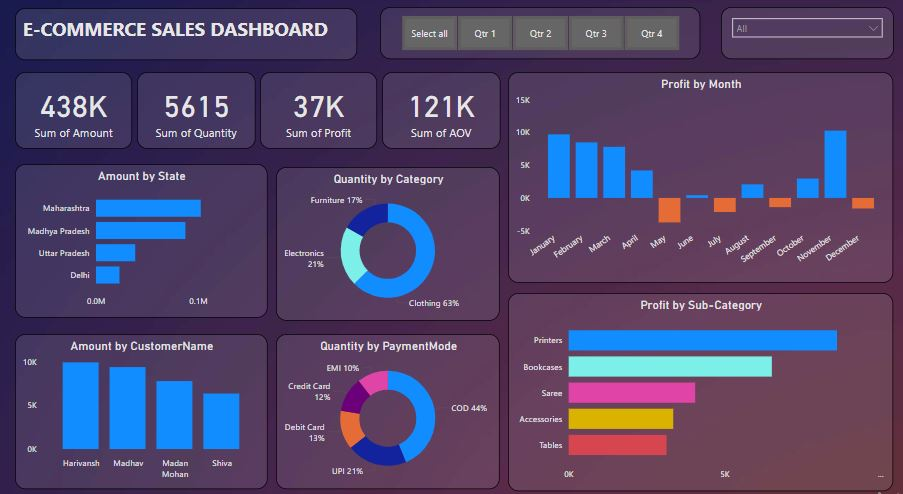

The dashboard page shown, as its layout file describes it:
{"tool":"powerbi","page":{"name":"Page 1","canvas":[1280,720],"ordinal":0},"visuals":[{"type":"textbox","box":[21.8,15.1,485.5,73.9],"z":0},{"type":"columnChart","title":"Profit by Month","fields":{"Category":["Orders.Order Date.Variation.Date Hierarchy.Month"],"Y":["Details.Profit"]},"box":[720.6,105.8,545.9,299],"z":1000},{"type":"barChart","title":" Profit by Sub-Category","fields":{"Category":["Details.Sub-Category"],"Y":["Details.Profit"]},"box":[720.6,419.9,545.9,280.5],"z":2000},{"type":"donutChart","title":" Quantity by Category","fields":{"Category":["Details.Category"],"Y":["Details.Quantity"]},"box":[391.4,240.7,317.5,218.4],"z":3000},{"type":"donutChart","title":"Quantity by PaymentMode","fields":{"Category":["Details.PaymentMode"],"Y":["Details.Quantity"]},"box":[391.4,477.6,317.5,220.1],"z":4000},{"type":"card","fields":{"Values":["Details.Amount"]},"box":[21.8,105.7,166.3,109.2],"z":5000},{"type":"card","fields":{"Values":["Details.Quantity"]},"box":[194.9,105.7,168,109.2],"z":6000},{"type":"card","fields":{"Values":["Details.Profit"]},"box":[367.9,105.7,166.3,109.2],"z":7000},{"type":"card","fields":{"Values":["Details.AOV"]},"box":[540.9,105.7,168,109.2],"z":8000},{"type":"barChart","title":"Amount by State","fields":{"Category":["Orders.State"],"Y":["Details.Amount"]},"box":[21.8,237.4,357.8,218.4],"z":9000},{"type":"clusteredColumnChart","title":"Amount by CustomerName","fields":{"Category":["Orders.CustomerName"],"Y":["Details.Amount"]},"box":[21.8,477.6,357.8,220.1],"z":10000},{"type":"slicer","fields":{"Values":["Orders.Order Date.Variation.Date Hierarchy.Quarter"]},"box":[539.2,14.6,453.5,73.9],"z":11000},{"type":"slicer","fields":{"Values":["Orders.State"]},"box":[1021.3,14.6,245.2,73.9],"z":12000}]}

Visuals, with their boxes in screenshot pixels (x1, y1, x2, y2), scaled from the page's 1280x720 canvas onto the 903x494 screenshot:
textbox: {"x1": 15, "y1": 10, "x2": 358, "y2": 61}
"Profit by Month" columnChart: {"x1": 508, "y1": 73, "x2": 893, "y2": 278}
" Profit by Sub-Category" barChart: {"x1": 508, "y1": 288, "x2": 893, "y2": 481}
" Quantity by Category" donutChart: {"x1": 276, "y1": 165, "x2": 500, "y2": 315}
"Quantity by PaymentMode" donutChart: {"x1": 276, "y1": 328, "x2": 500, "y2": 479}
card - Details.Amount: {"x1": 15, "y1": 73, "x2": 133, "y2": 147}
card - Details.Quantity: {"x1": 137, "y1": 73, "x2": 256, "y2": 147}
card - Details.Profit: {"x1": 260, "y1": 73, "x2": 377, "y2": 147}
card - Details.AOV: {"x1": 382, "y1": 73, "x2": 500, "y2": 147}
"Amount by State" barChart: {"x1": 15, "y1": 163, "x2": 268, "y2": 313}
"Amount by CustomerName" clusteredColumnChart: {"x1": 15, "y1": 328, "x2": 268, "y2": 479}
slicer - Orders.Order Date.Variation.Date Hierarchy.Quarter: {"x1": 380, "y1": 10, "x2": 700, "y2": 61}
slicer - Orders.State: {"x1": 720, "y1": 10, "x2": 893, "y2": 61}
